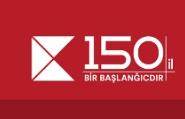Kapital Bank: (28, 34, 76, 81)
